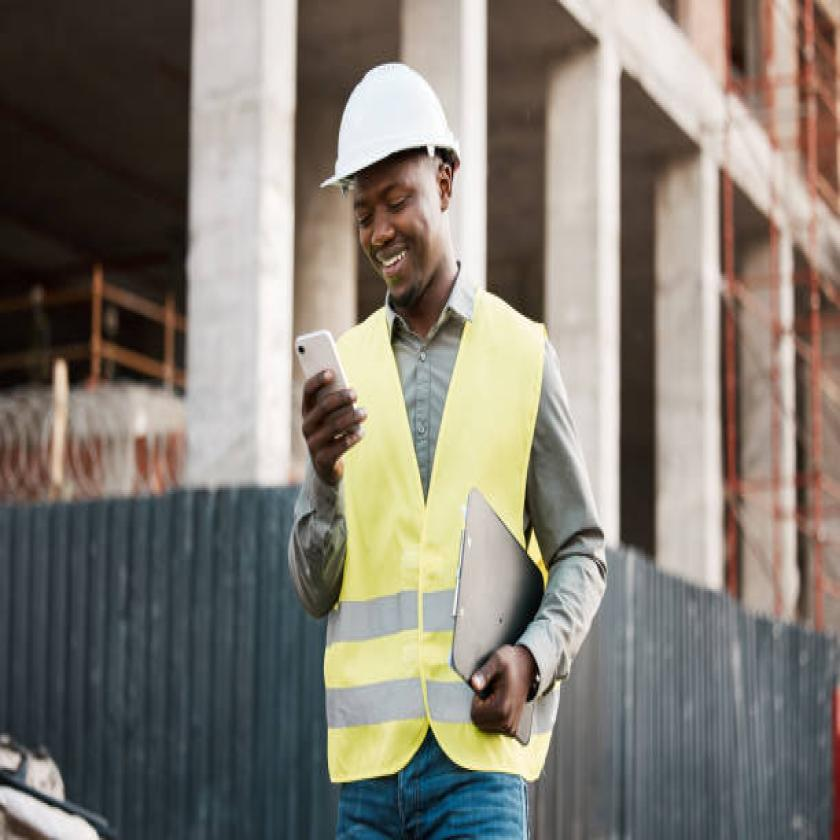Con_casco: (311, 45, 484, 315)
